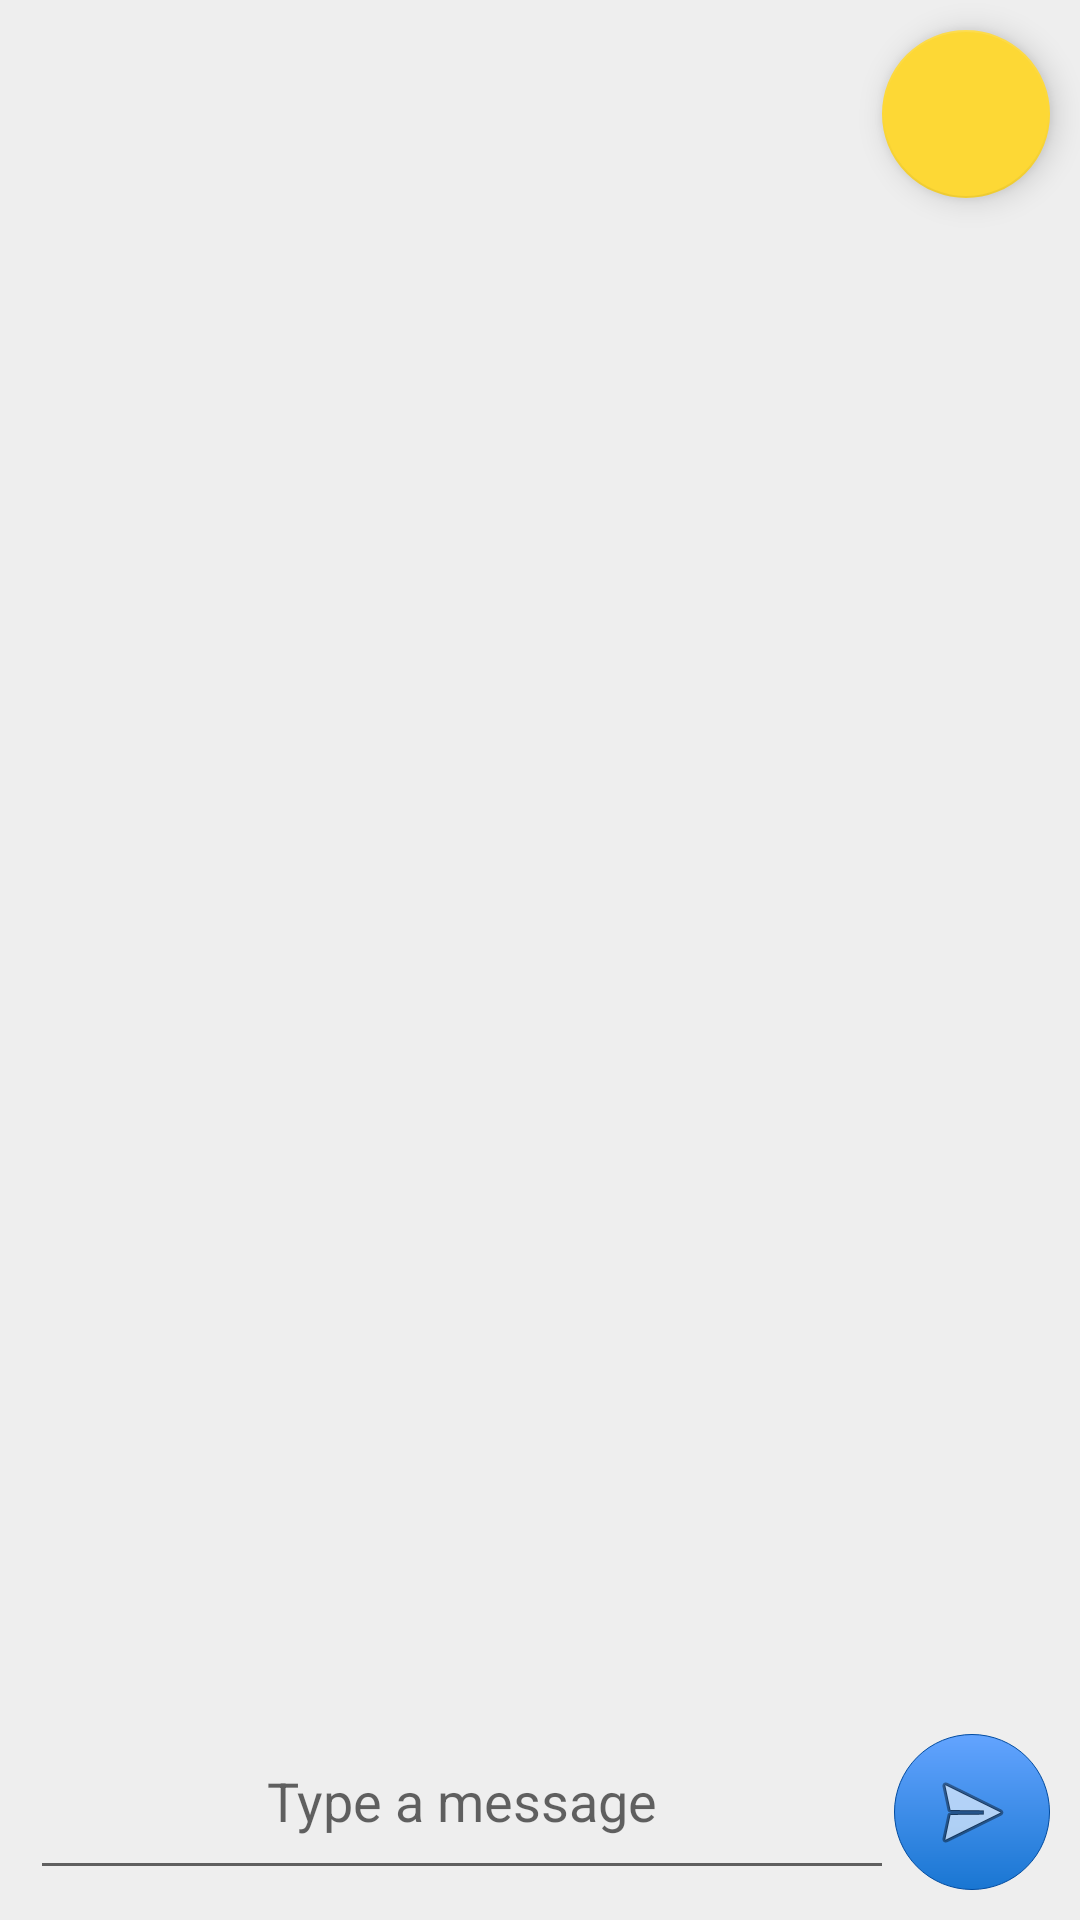

Screen size 1080×1920. Icon name, then its box in pixels as (x1,y1,x2,y2):
Send: (894,1734,1050,1890)
